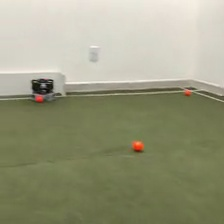ball: (132, 139, 145, 152), (183, 87, 191, 96), (35, 94, 43, 103)
goal: (1, 69, 68, 98)
robot: (29, 77, 55, 101)
